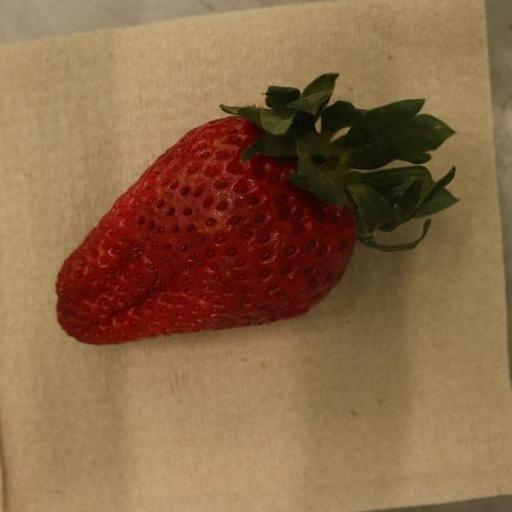Strawberry: (54, 74, 460, 348)
